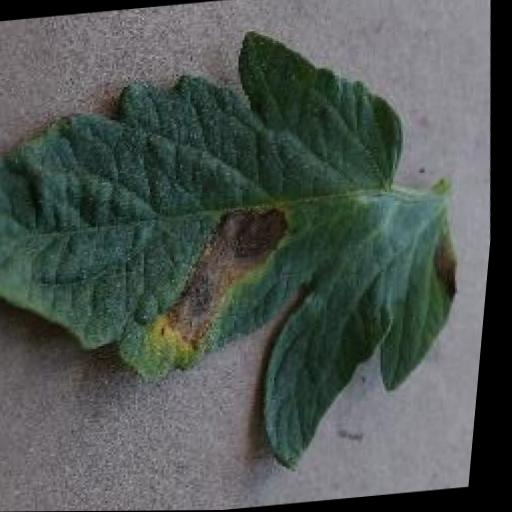Early Blight: (0, 12, 497, 501)
